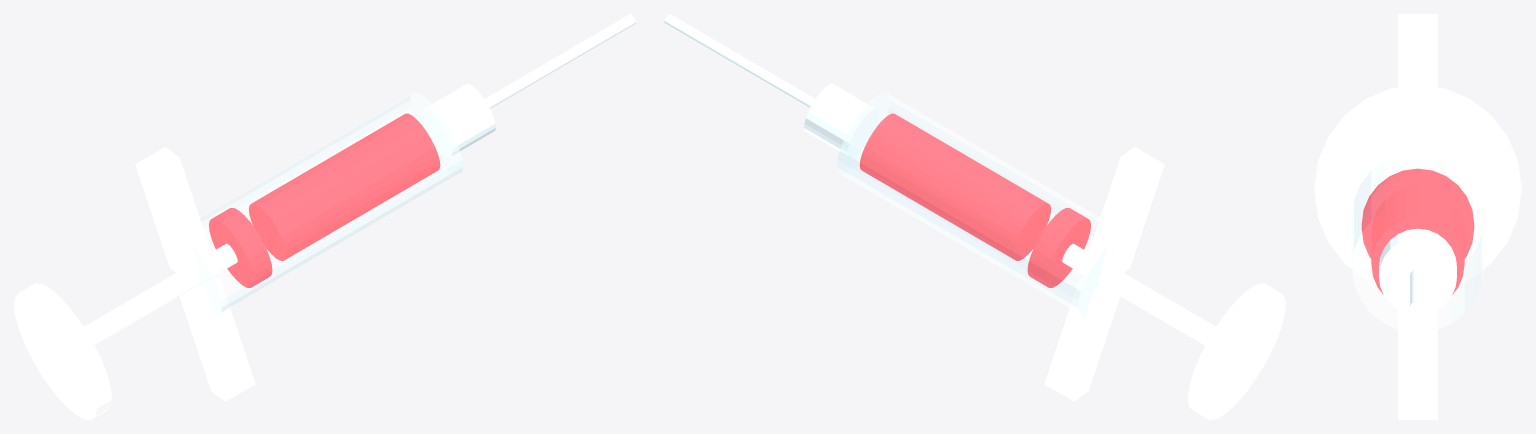
Rendered from effect-regroup.glb.
3 renders of one model, left to right at view 1: azimuth 30°, elevation 25°; view 2: azimuth 150°, elevation 25°; view 3: azimuth 270°, elevation 25°, orthographic. The views are drawn at different scales.
Parts seen in each view (by area): view 1: Regroup_Barrel, Regroup_Liquid, Regroup_PlungerThumb, Regroup_FingerFlange_Top, Regroup_FingerFlange_Bottom, Regroup_NeedleHub, Regroup_PlungerRod, Regroup_PlungerSeal, Regroup_Needle; view 2: Regroup_Barrel, Regroup_Liquid, Regroup_PlungerThumb, Regroup_FingerFlange_Top, Regroup_FingerFlange_Bottom, Regroup_NeedleHub, Regroup_PlungerRod, Regroup_PlungerSeal, Regroup_Needle; view 3: Regroup_PlungerThumb, Regroup_Barrel, Regroup_FingerFlange_Top, Regroup_NeedleHub, Regroup_Liquid, Regroup_FingerFlange_Bottom, Regroup_PlungerSeal, Regroup_Needle.
Part boxes in pixels (left/top/right/bottom): Regroup_Barrel: left=191, top=92, right=462, bottom=314; Regroup_Liquid: left=249, top=113, right=440, bottom=260; Regroup_PlungerThumb: left=14, top=283, right=111, bottom=419; Regroup_FingerFlange_Top: left=135, top=147, right=213, bottom=278; Regroup_FingerFlange_Bottom: left=179, top=276, right=255, bottom=401; Regroup_NeedleHub: left=421, top=84, right=495, bottom=157; Regroup_PlungerRod: left=84, top=243, right=237, bottom=345; Regroup_PlungerSeal: left=209, top=208, right=272, bottom=287; Regroup_Needle: left=484, top=14, right=635, bottom=108; Regroup_Barrel: left=837, top=92, right=1108, bottom=314; Regroup_Liquid: left=859, top=113, right=1050, bottom=260; Regroup_PlungerThumb: left=1188, top=283, right=1285, bottom=419; Regroup_FingerFlange_Top: left=1086, top=147, right=1164, bottom=278; Regroup_FingerFlange_Bottom: left=1044, top=276, right=1120, bottom=401; Regroup_NeedleHub: left=804, top=84, right=878, bottom=157; Regroup_PlungerRod: left=1062, top=243, right=1215, bottom=345; Regroup_PlungerSeal: left=1027, top=208, right=1090, bottom=287; Regroup_Needle: left=664, top=14, right=815, bottom=108; Regroup_PlungerThumb: left=1314, top=87, right=1521, bottom=283; Regroup_Barrel: left=1352, top=155, right=1483, bottom=332; Regroup_FingerFlange_Top: left=1398, top=14, right=1437, bottom=172; Regroup_NeedleHub: left=1379, top=228, right=1456, bottom=314; Regroup_Liquid: left=1371, top=186, right=1464, bottom=294; Regroup_FingerFlange_Bottom: left=1398, top=310, right=1437, bottom=419; Regroup_PlungerSeal: left=1361, top=168, right=1474, bottom=258; Regroup_Needle: left=1410, top=268, right=1425, bottom=316.
Bounding box in the file's own units: 1.7 × 0.7634 × 0.36.
